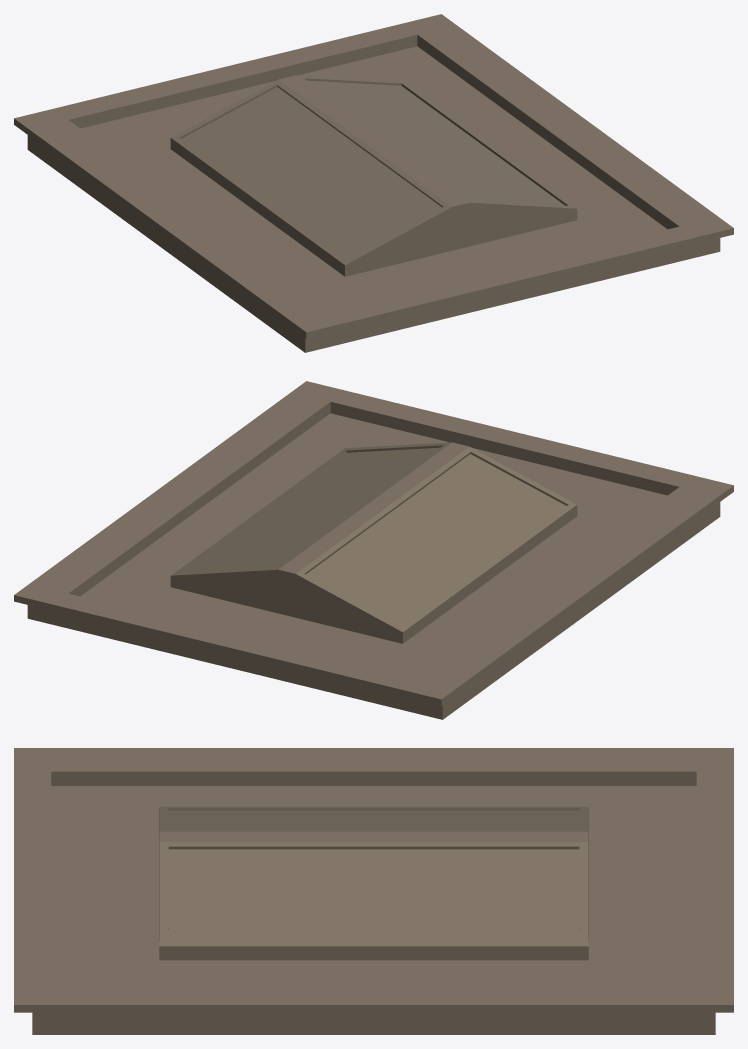
File: Apt4_Roof.fbx
The picture shows the model from 3 angles, top to bottom: view 1: azimuth 30°, elevation 25°; view 2: azimuth 150°, elevation 25°; view 3: azimuth 270°, elevation 25°; orthographic projection. The views are drawn at different scales.
Visible parts, largest first — view 1: Apt4_Roof; view 2: Apt4_Roof; view 3: Apt4_Roof.
Boxes of the visible parts, <box> form: Apt4_Roof: <box>14,14,733,352</box>; Apt4_Roof: <box>14,381,733,719</box>; Apt4_Roof: <box>14,748,733,1034</box>.
Size of the model in its own units: 1333 by 177 by 1580.
